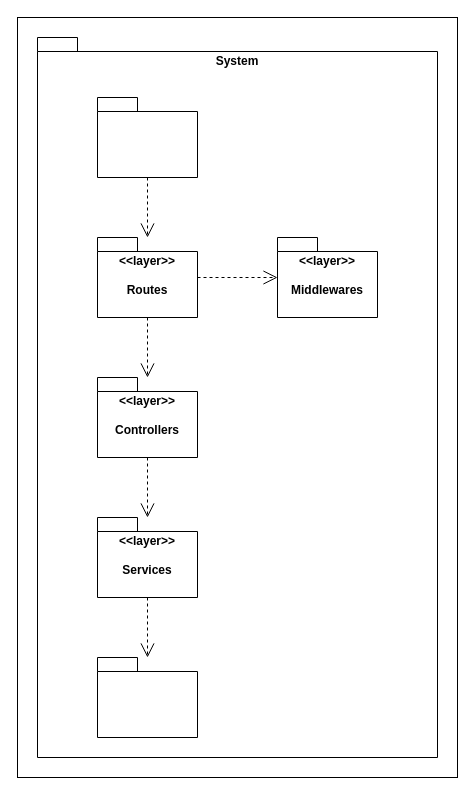
This 475x795 diagram has some shape labels left out. The box of each missing label's shape, as (x1, y1, x2, y2) in pixels:
<<layer>> Models: (96, 656, 198, 738)
<<layer>> View: (96, 96, 198, 178)
